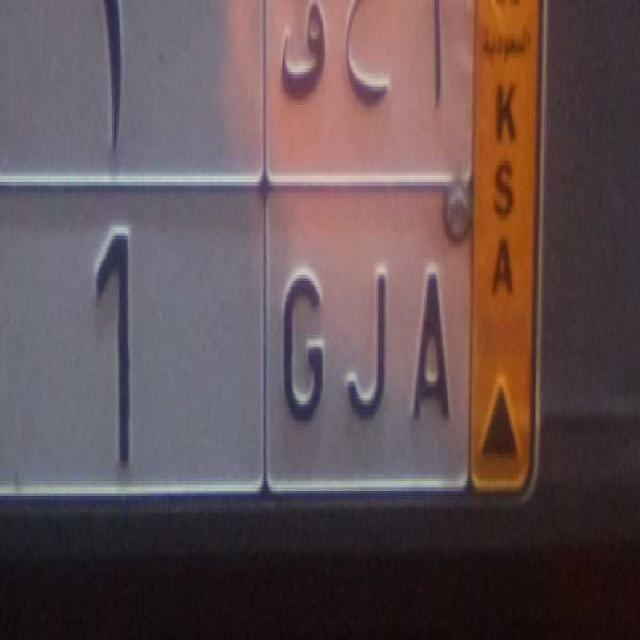license_plate: (0, 177, 473, 501)
